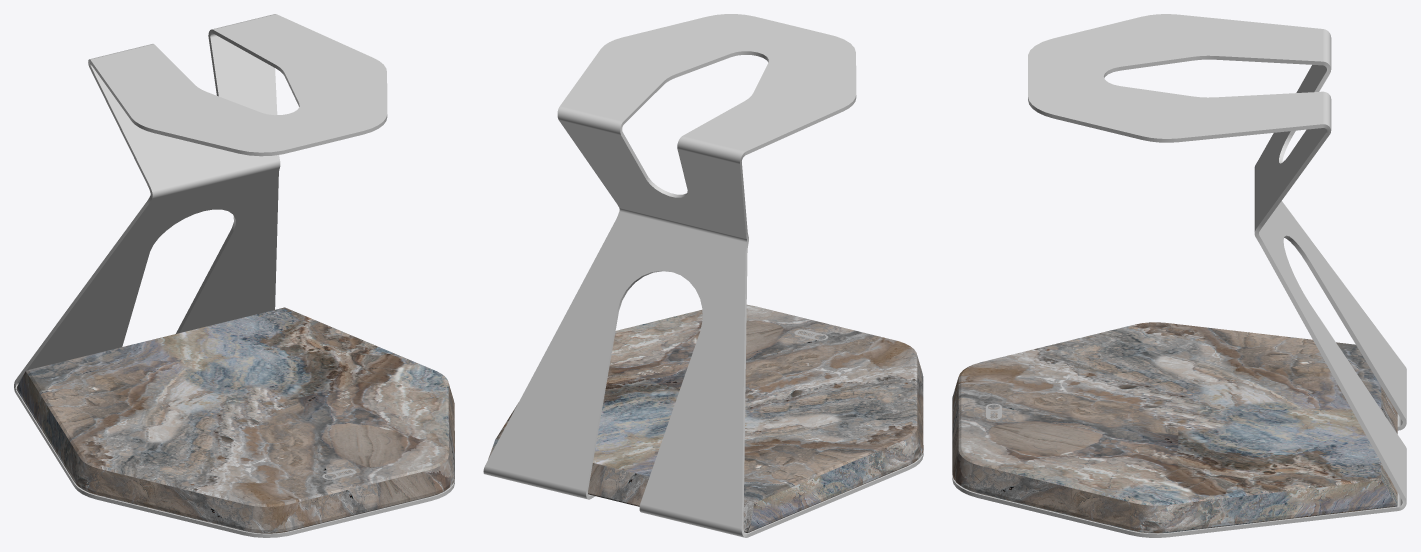
3 renders of one model, left to right at view 1: azimuth 30°, elevation 25°; view 2: azimuth 150°, elevation 25°; view 3: azimuth 270°, elevation 25°, orthographic. The views are drawn at different scales.
Visible parts, largest first — view 1: Body1.001, Body1; view 2: Body1, Body1.001; view 3: Body1.001, Body1.
Part boxes in pixels (x1,y1,x2,y2): Body1.001: (16, 307, 454, 533); Body1: (14, 14, 454, 537); Body1: (483, 14, 923, 537); Body1.001: (488, 304, 923, 532); Body1.001: (952, 322, 1397, 533); Body1: (952, 14, 1406, 537).
Bounding box in the file's own units: 0.2654 × 0.2413 × 0.2707.
Materials: 4 (3 with a texture image).
